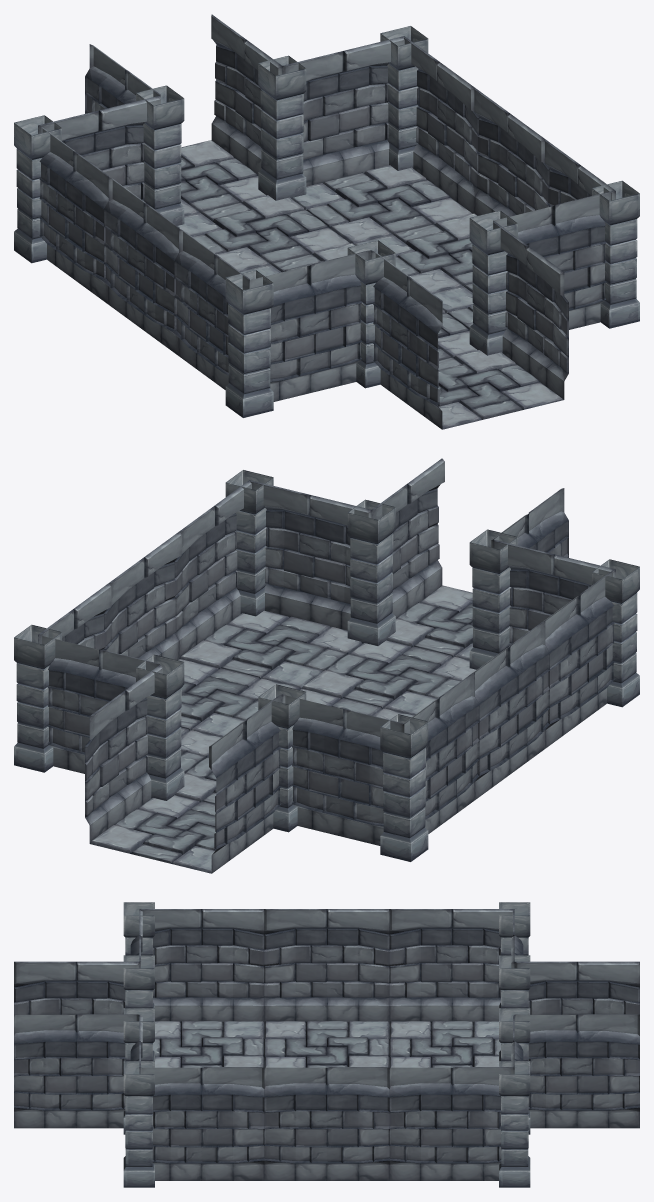
The model's file is GFTemple_SmallSquareRoom1.fbx.
The picture shows the model from 3 angles, top to bottom: view 1: azimuth 30°, elevation 25°; view 2: azimuth 150°, elevation 25°; view 3: azimuth 270°, elevation 25°; orthographic projection. The views are drawn at different scales.
Visible parts, largest first — view 1: GFTemple_Wall96, GFTemple_Wall94, GFTemple_Wall99, GFTemple_Wall105, GFTemple_Floor75, GFTemple_Wall100, GFTemple_Wall106, GFTemple_Wall101, GFTemple_Floor74, GFTemple_Wall97, GFTemple_Wall102, GFTemple_Wall98 (+18 smaller); view 2: GFTemple_Wall95, GFTemple_Wall97, GFTemple_Wall99, GFTemple_Wall104, GFTemple_Wall98, GFTemple_Floor76, GFTemple_Wall107, GFTemple_Wall103, GFTemple_Floor77, GFTemple_Wall94, GFTemple_Wall102, GFTemple_Wall100 (+18 smaller); view 3: GFTemple_Wall102, GFTemple_Wall99, GFTemple_Wall106, GFTemple_Wall107, GFTemple_Wall103, GFTemple_Wall101, GFTemple_Wall100, GFTemple_Wall98, GFTemple_Wall104, GFTemple_Wall105, GFTemple_Floor72, GFTemple_Floor73 (+9 smaller).
Part boxes in pixels (bbox=[...]): GFTemple_Wall96: bbox=[249, 250, 371, 401]; GFTemple_Wall94: bbox=[282, 36, 404, 186]; GFTemple_Wall99: bbox=[104, 177, 179, 355]; GFTemple_Wall105: bbox=[371, 250, 442, 429]; GFTemple_Floor75: bbox=[292, 165, 472, 244]; GFTemple_Wall100: bbox=[39, 126, 108, 304]; GFTemple_Wall106: bbox=[493, 221, 568, 399]; GFTemple_Wall101: bbox=[404, 36, 479, 213]; GFTemple_Floor74: bbox=[178, 195, 350, 271]; GFTemple_Wall97: bbox=[493, 191, 614, 329]; GFTemple_Wall102: bbox=[474, 88, 549, 216]; GFTemple_Wall98: bbox=[174, 228, 249, 389]; GFTemple_Wall95: bbox=[282, 694, 403, 845]; GFTemple_Wall97: bbox=[249, 480, 371, 630]; GFTemple_Wall99: bbox=[472, 621, 549, 799]; GFTemple_Wall104: bbox=[209, 694, 282, 873]; GFTemple_Wall98: bbox=[543, 569, 614, 748]; GFTemple_Floor76: bbox=[179, 610, 362, 688]; GFTemple_Wall107: bbox=[85, 665, 162, 843]; GFTemple_Wall103: bbox=[174, 480, 251, 658]; GFTemple_Floor77: bbox=[301, 640, 476, 715]; GFTemple_Wall94: bbox=[42, 636, 159, 773]; GFTemple_Wall102: bbox=[104, 532, 181, 660]; GFTemple_Wall100: bbox=[401, 672, 479, 833]; GFTemple_Wall102: bbox=[264, 1067, 389, 1180]; GFTemple_Wall99: bbox=[264, 909, 389, 1021]; GFTemple_Wall106: bbox=[14, 1014, 139, 1128]; GFTemple_Wall107: bbox=[514, 1014, 639, 1128]; GFTemple_Wall103: bbox=[141, 1067, 264, 1180]; GFTemple_Wall101: bbox=[389, 1067, 513, 1180]; GFTemple_Wall100: bbox=[389, 909, 513, 1021]; GFTemple_Wall98: bbox=[140, 909, 264, 1021]; GFTemple_Wall104: bbox=[514, 961, 639, 1014]; GFTemple_Wall105: bbox=[14, 961, 139, 1014]; GFTemple_Floor72: bbox=[264, 1021, 389, 1067]; GFTemple_Floor73: bbox=[389, 1021, 500, 1067].
Bounding box in the file's own units: 13 × 4 × 20.
